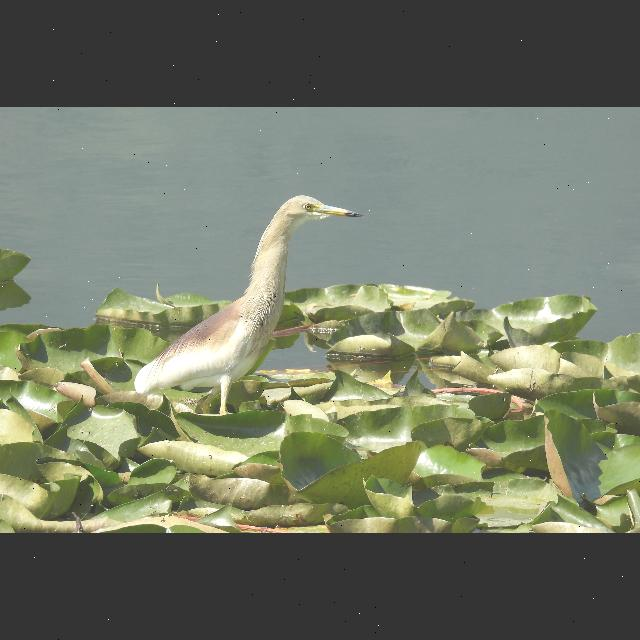heron: (125, 188, 367, 424)
